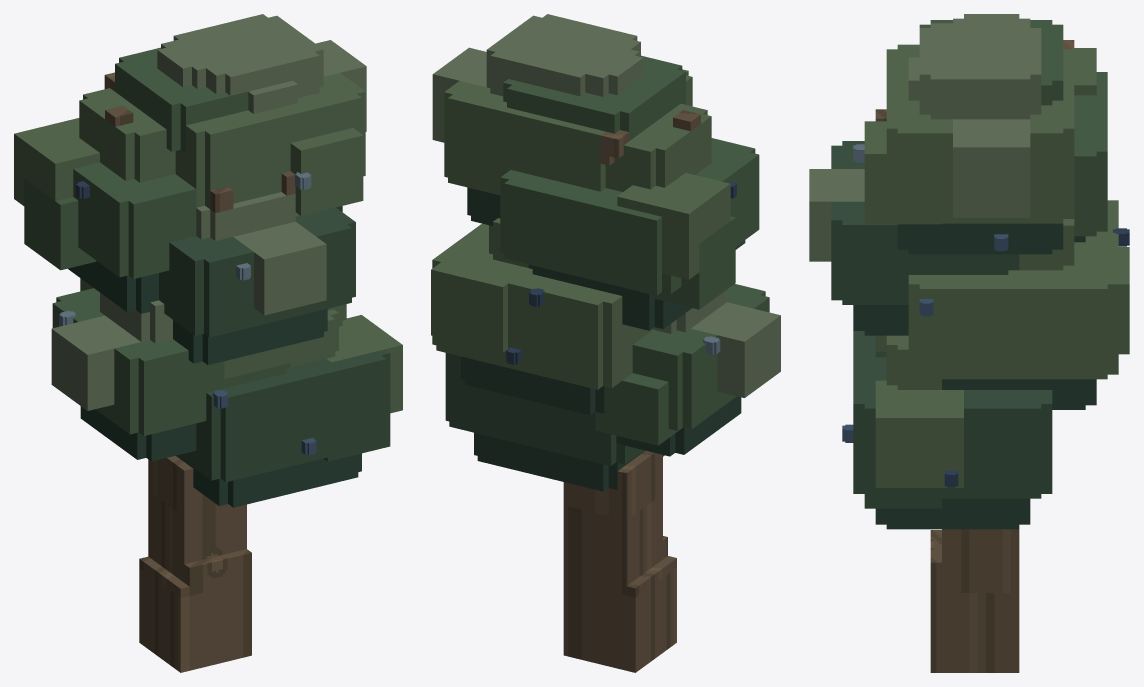
File: juniper_ancient_2.glb
The picture shows the model from 3 angles, left to right: view 1: azimuth 30°, elevation 25°; view 2: azimuth 150°, elevation 25°; view 3: azimuth 270°, elevation 25°; orthographic projection. The views are drawn at different scales.
Parts seen in each view (by area): view 1: VoxelVisual; view 2: VoxelVisual; view 3: VoxelVisual.
Part boxes in pixels (x1,y1,x2,y2): VoxelVisual: [14, 14, 402, 672]; VoxelVisual: [431, 14, 780, 672]; VoxelVisual: [809, 14, 1129, 672].
Size of what is drawn, in the model's own units: 8.5 by 15.75 by 7.25.
